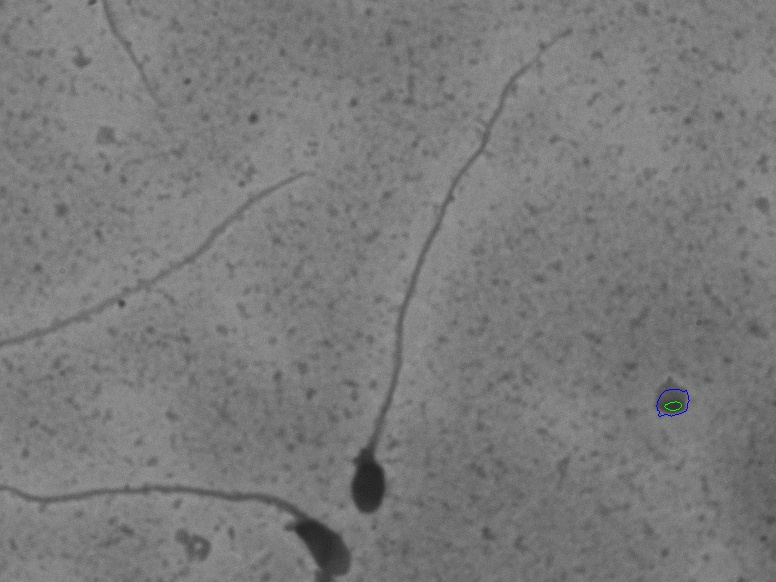Abnormal: (30, 450, 357, 581)
Normal: (301, 16, 587, 551)
